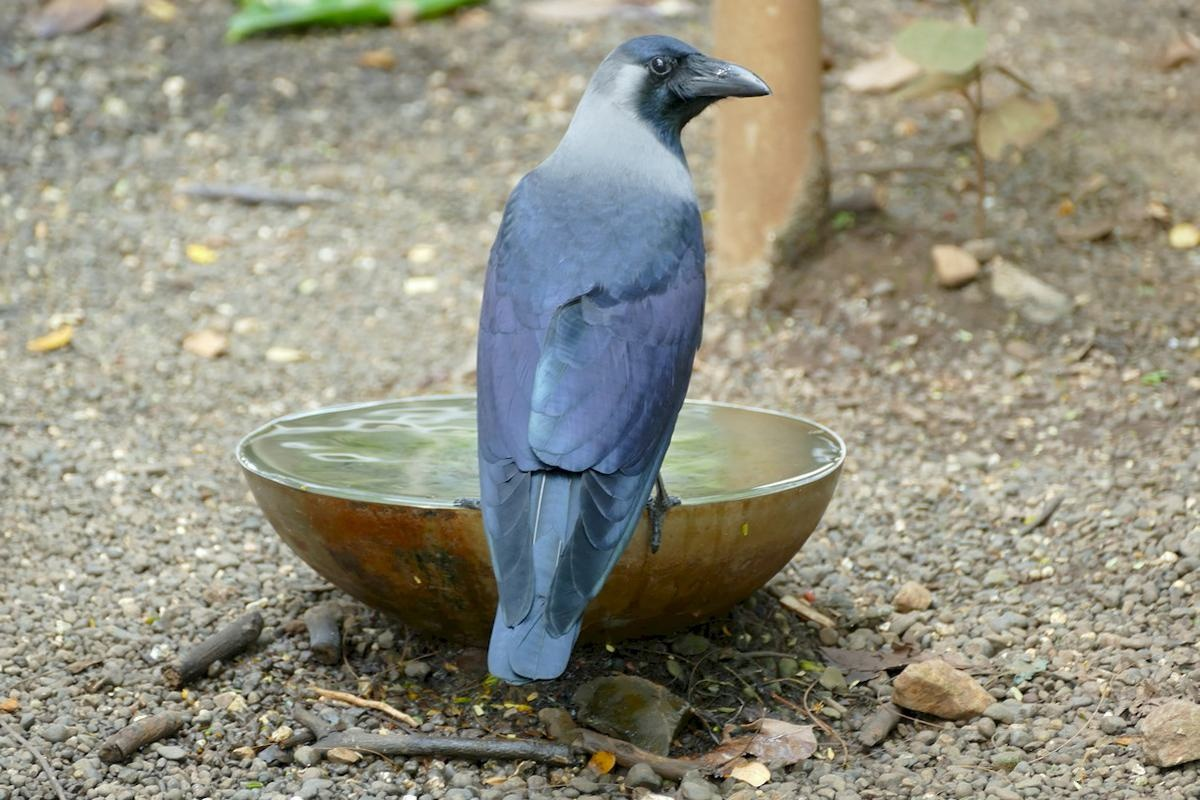crow: (449, 34, 775, 682)
